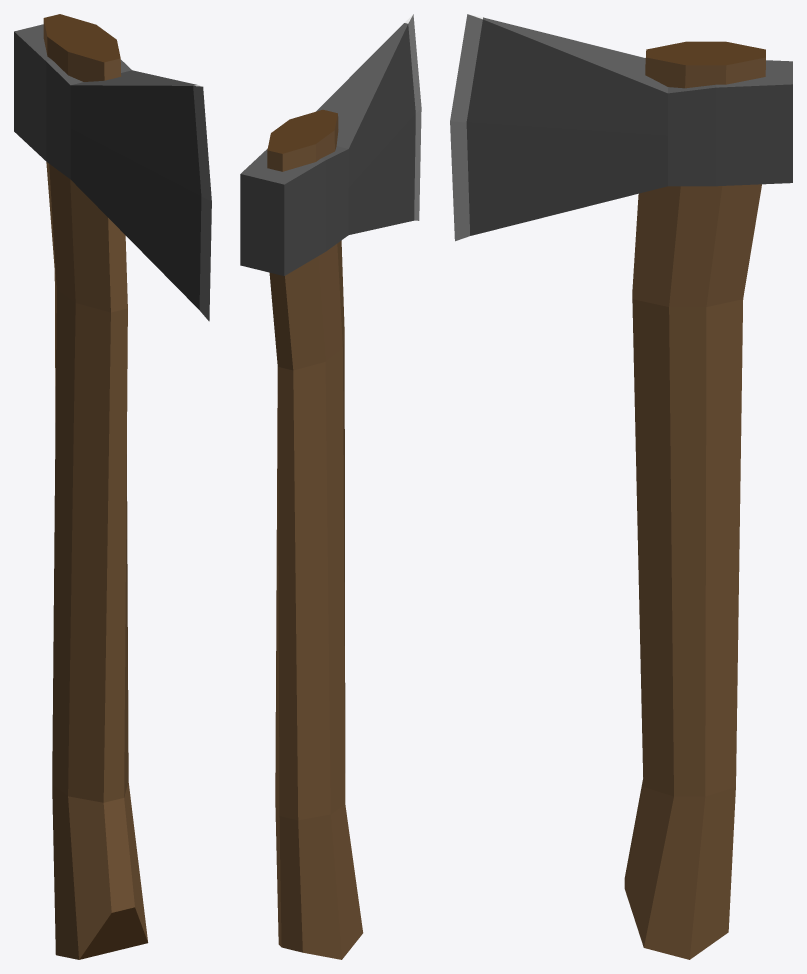
Rendered from axe_7.fbx.
3 renders of one model, left to right at view 1: azimuth 30°, elevation 25°; view 2: azimuth 150°, elevation 25°; view 3: azimuth 270°, elevation 25°, orthographic. The views are drawn at different scales.
Visible parts, largest first — view 1: axe_7; view 2: axe_7; view 3: axe_7.
Boxes of the visible parts, x1,y1,x2,y2 form: axe_7: (14, 14, 211, 959); axe_7: (240, 14, 421, 959); axe_7: (450, 14, 792, 959).
Size of the model in its own units: 7.36 by 95.91 by 32.08.
1 material, 1 textured.
